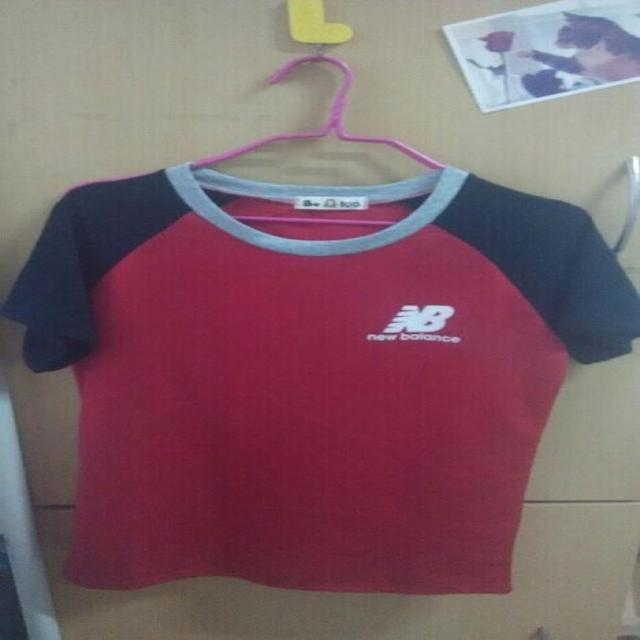short-sleeve-top: (34, 160, 640, 623)
